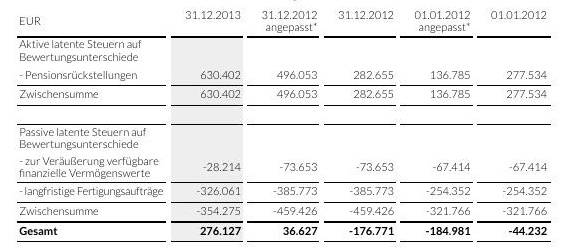table: (0, 0, 562, 251)
